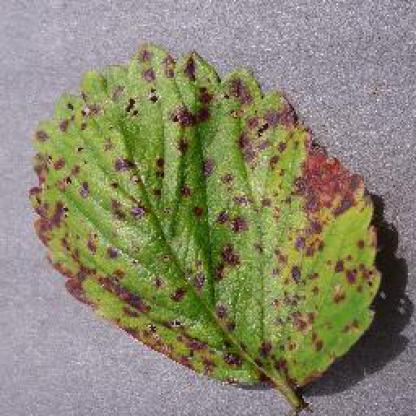leaf scorch: (22, 31, 388, 413)
